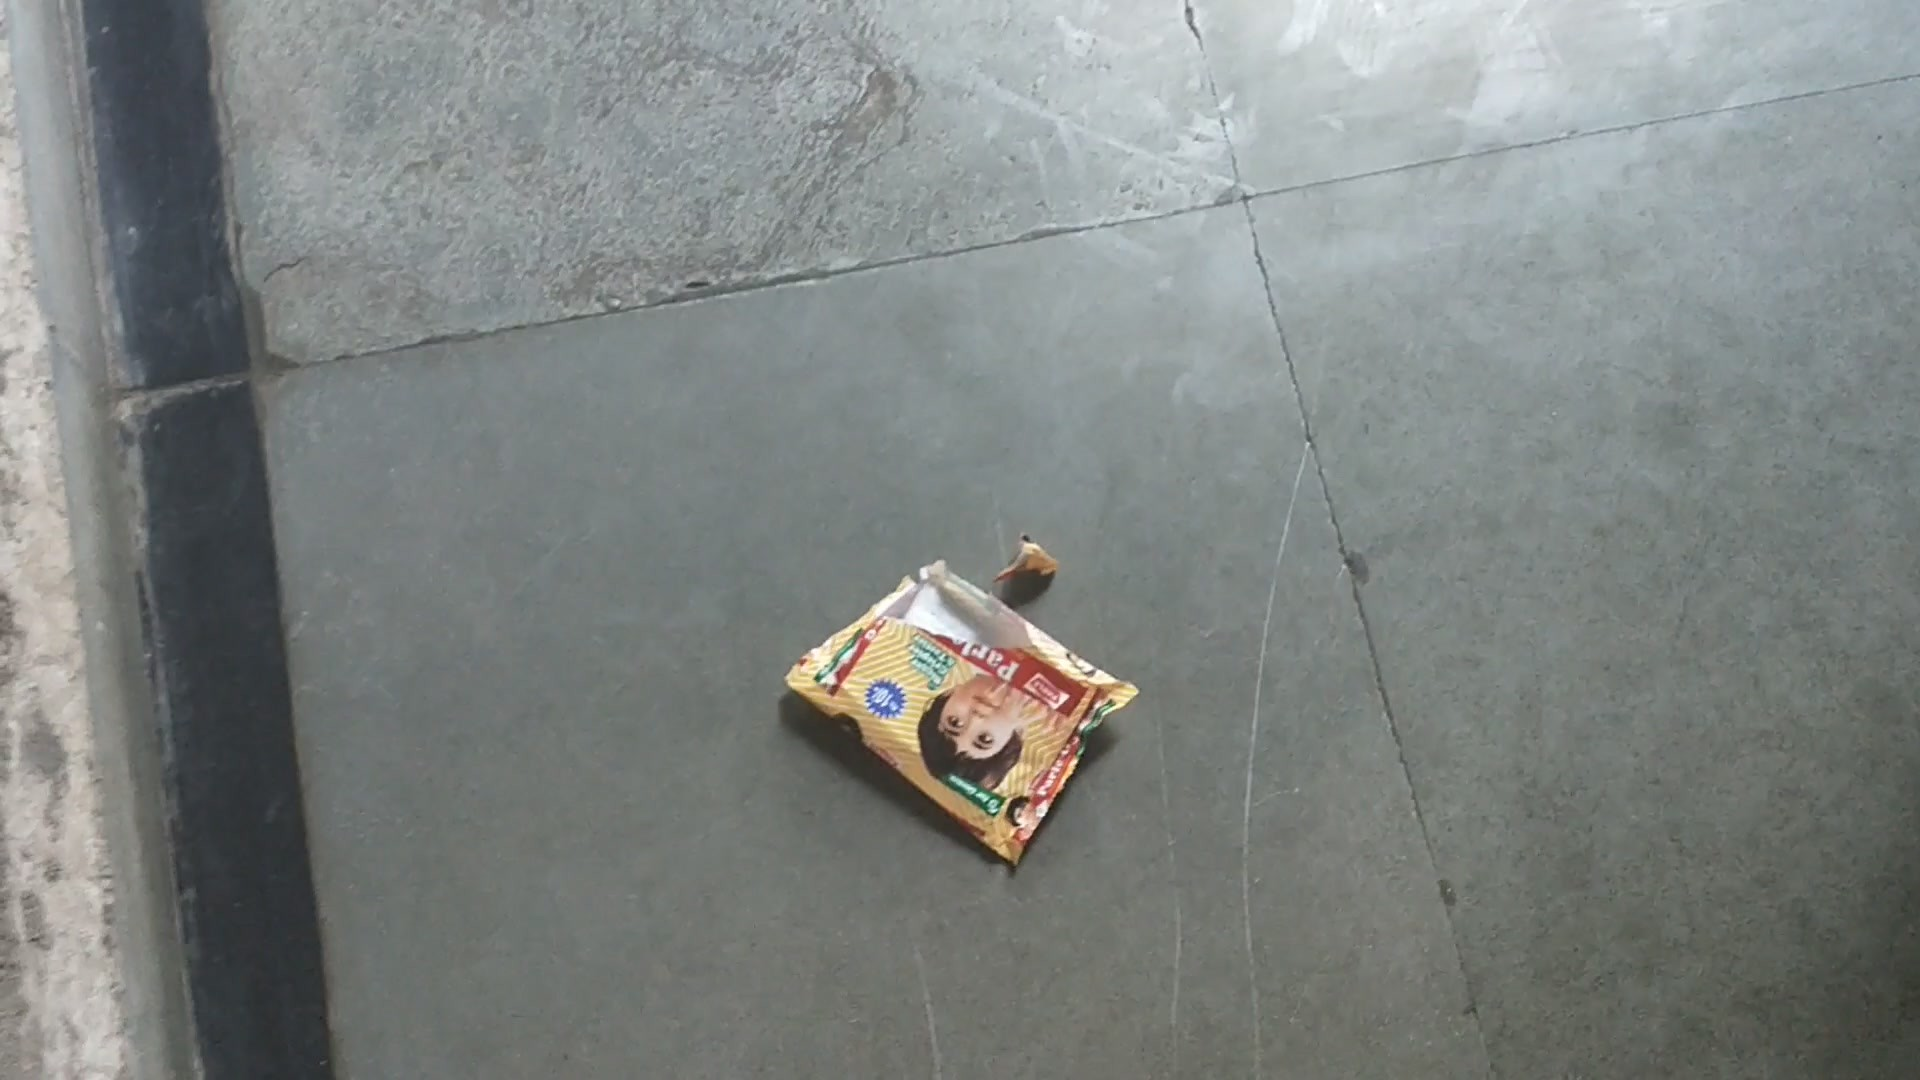parle-g: (866, 636, 1065, 782)
